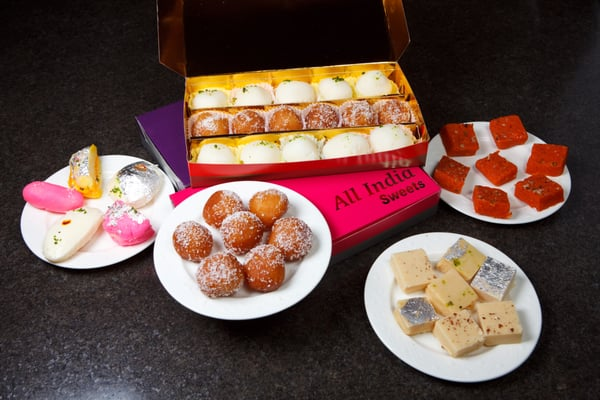curry: (12, 38, 597, 392)
salad: (269, 215, 315, 263), (195, 252, 244, 297), (242, 243, 285, 292), (220, 209, 264, 252), (171, 220, 214, 262), (202, 189, 247, 226), (248, 188, 289, 226)
